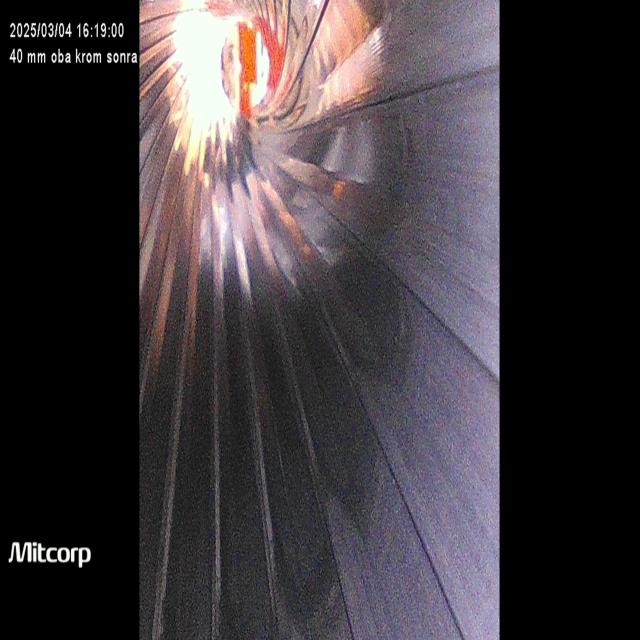hata_8.1: (338, 254, 431, 421)
